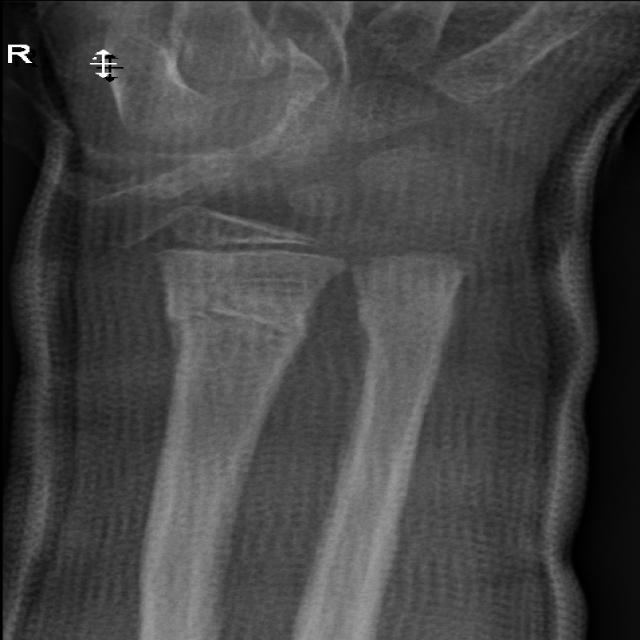radius fracture: (153, 268, 327, 402)
